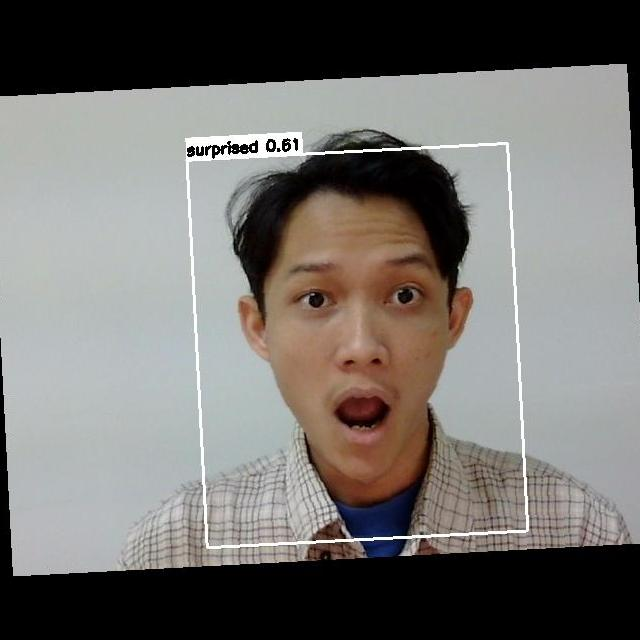Surprised: (259, 230, 457, 459)
